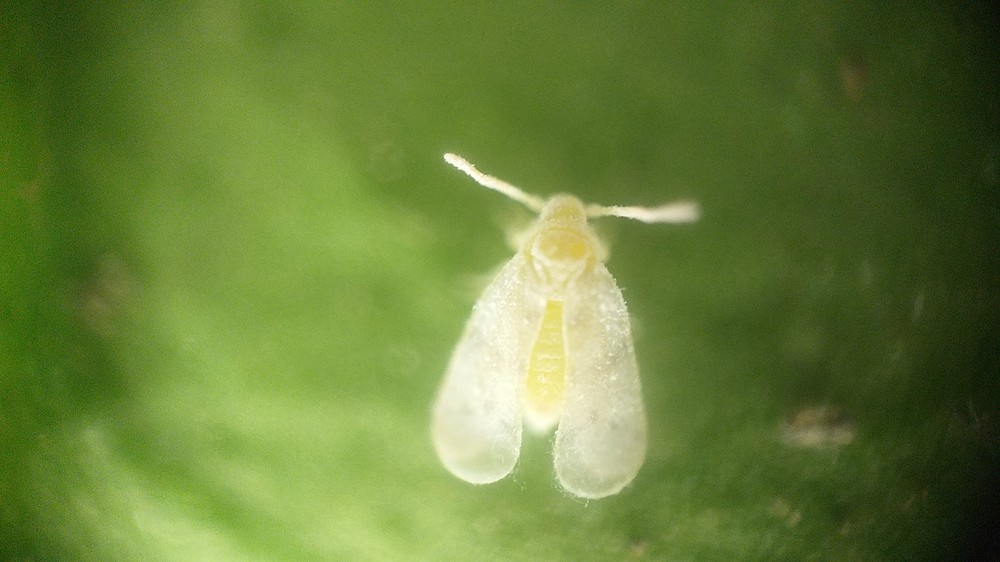Mosca Blanca: (386, 132, 723, 519)
